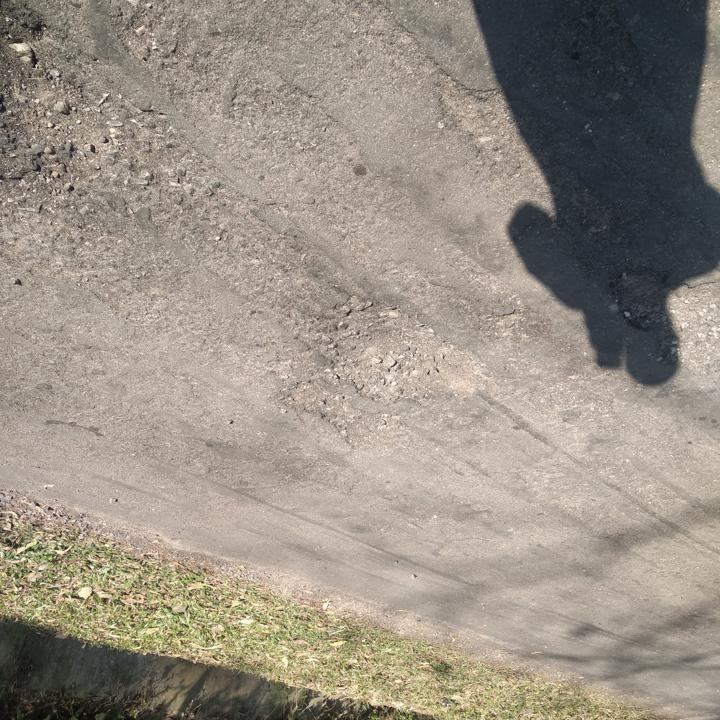pothole: (318, 294, 489, 405), (0, 46, 122, 171), (277, 381, 398, 452)
